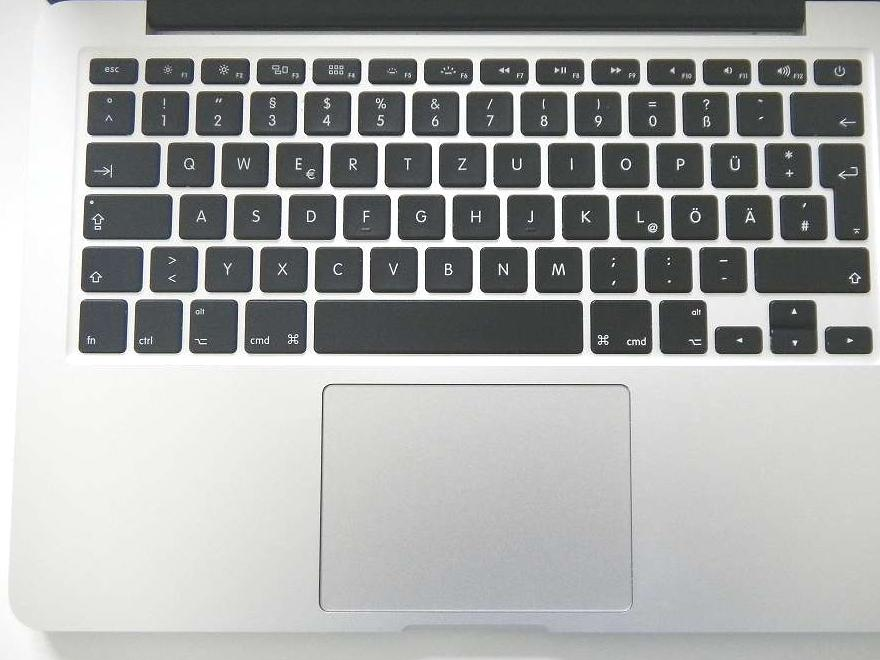0: (626, 88, 675, 134)
1: (139, 87, 188, 134)
2: (193, 88, 242, 134)
3: (247, 88, 296, 134)
4: (301, 88, 350, 133)
5: (355, 87, 404, 133)
6: (409, 88, 458, 133)
7: (464, 89, 512, 133)
8: (517, 89, 567, 134)
9: (572, 88, 621, 134)
a: (176, 191, 225, 237)
accent: (734, 89, 781, 134)
ae: (723, 191, 771, 238)
alt-left: (187, 298, 238, 354)
altgr-right: (656, 298, 708, 354)
b: (421, 243, 472, 290)
c: (312, 243, 362, 291)
caret: (85, 87, 133, 134)
comma: (587, 243, 636, 291)
d: (285, 191, 334, 238)
del: (788, 89, 863, 135)
e: (273, 139, 322, 185)
enter: (816, 139, 873, 244)
f: (341, 191, 389, 237)
g: (395, 191, 444, 238)
h: (449, 191, 499, 238)
hash: (777, 191, 826, 238)
i: (545, 139, 593, 184)
j: (504, 191, 553, 237)
k: (559, 191, 609, 237)
keyboard: (62, 35, 880, 369)
l: (614, 191, 663, 238)
less: (148, 243, 197, 290)
m: (531, 243, 582, 291)
minus: (696, 243, 745, 290)
n: (476, 243, 527, 291)
o: (599, 139, 648, 185)
oe: (668, 192, 717, 238)
p: (654, 139, 702, 186)
plus: (762, 139, 810, 186)
point: (642, 243, 691, 290)
q: (163, 138, 214, 185)
r: (327, 139, 377, 185)
s: (230, 191, 280, 238)
shift-left: (78, 243, 143, 292)
shift-lock: (81, 191, 171, 238)
shift-right: (751, 243, 869, 292)
space: (311, 297, 582, 353)
ss: (679, 89, 728, 134)
strg-left: (131, 297, 183, 354)
t: (382, 139, 430, 185)
tab: (83, 138, 159, 186)
u: (491, 139, 540, 185)
ue: (708, 139, 756, 186)
v: (367, 243, 417, 290)
w: (219, 138, 267, 185)
x: (258, 243, 307, 290)
y: (202, 243, 252, 290)
z: (436, 139, 486, 185)
